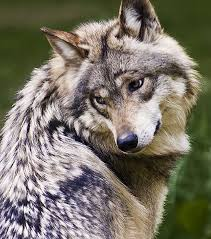Lobo: (11, 8, 191, 225)
